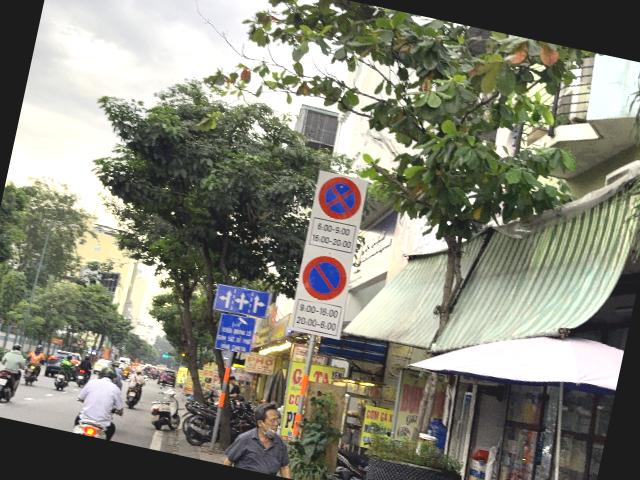cam-do-xe: (298, 252, 349, 304)
cam-dung-va-do-xe: (314, 172, 366, 223)
